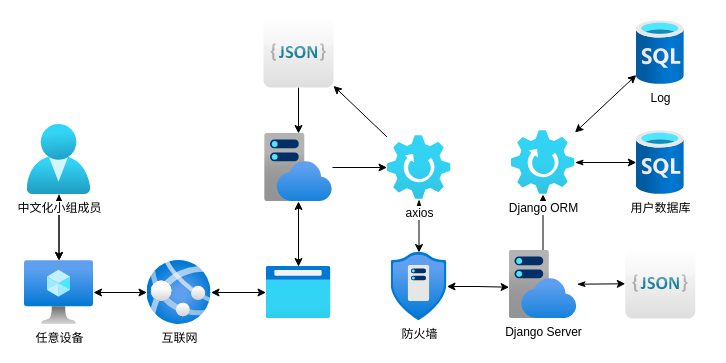
This 726x363 diagram has some shape labels left out. The shapes that lost their labels are listed below. From the top down, each one's centre as x and y in pixels, then its label:
At [298,52]: "Vue Model".
At [298,167]: "Vue ViewModel".
At [298,292]: "系统界面".
At [659,283]: "中文化项目数据库".
